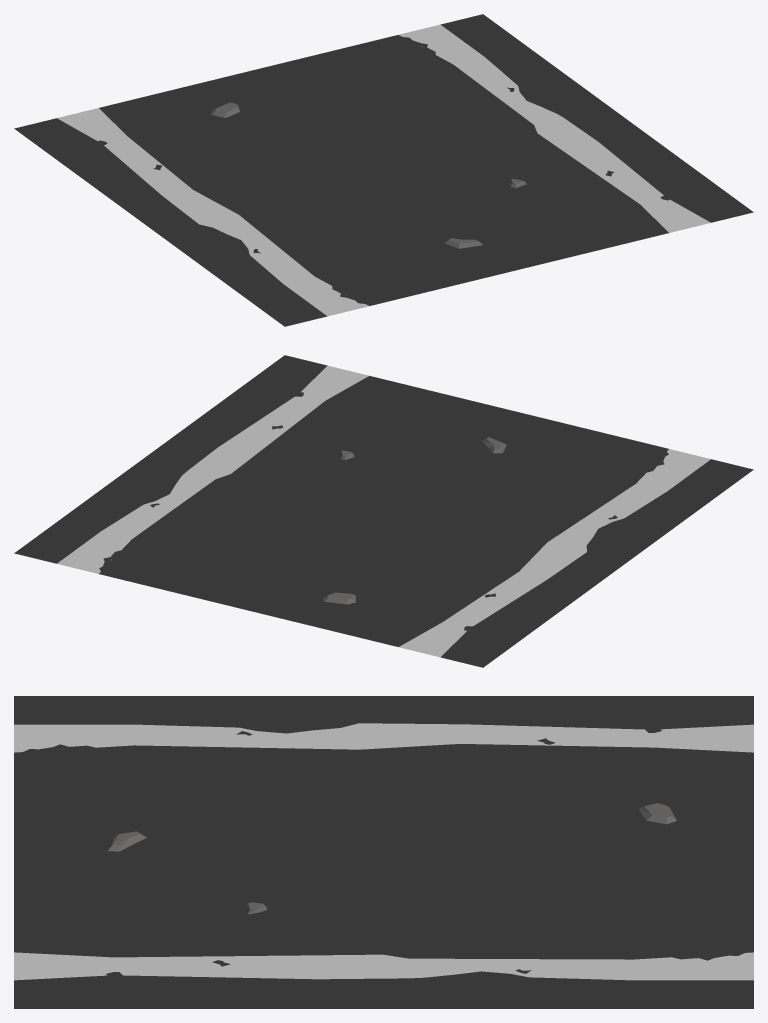
File: Asphalt_02.FBX
The picture shows the model from 3 angles, top to bottom: view 1: azimuth 30°, elevation 25°; view 2: azimuth 150°, elevation 25°; view 3: azimuth 270°, elevation 25°; orthographic projection. The views are drawn at different scales.
Parts seen in each view (by area): view 1: Asphalt_02; view 2: Asphalt_02; view 3: Asphalt_02.
Part boxes in pixels (x1,y1,x2,y2): Asphalt_02: (14, 14, 753, 326); Asphalt_02: (14, 355, 753, 667); Asphalt_02: (14, 696, 753, 1008).
Size of the model in its own units: 5 by 0.03 by 5.
